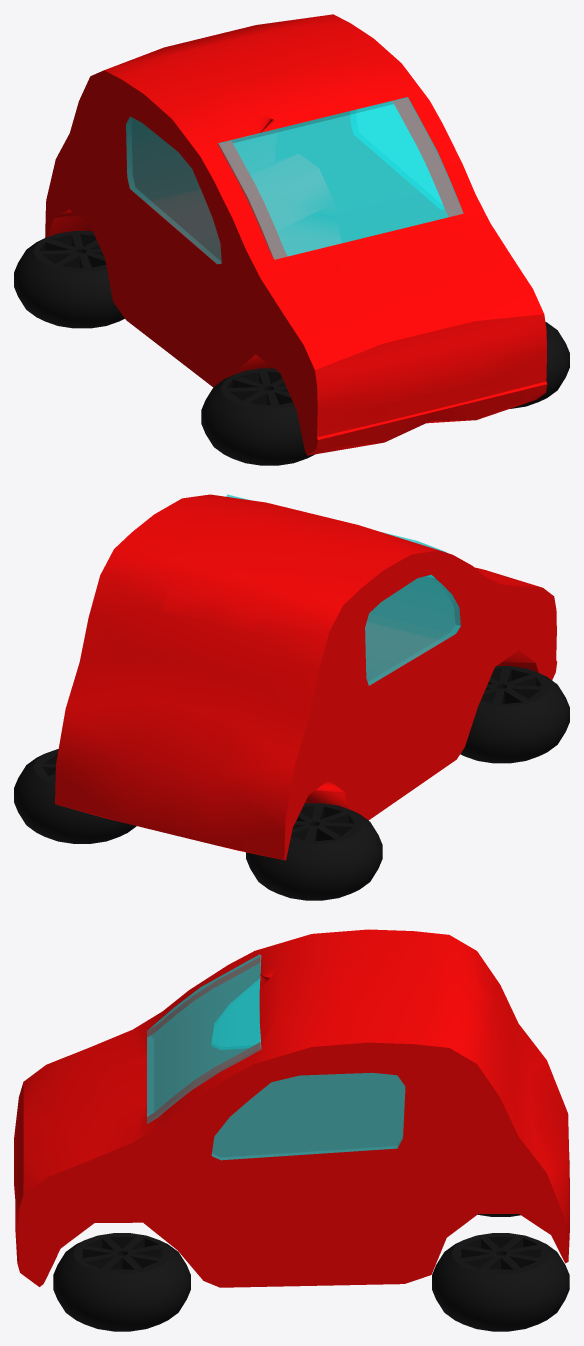
Rendered from car_body.FBX.
The picture shows the model from 3 angles, top to bottom: view 1: azimuth 30°, elevation 25°; view 2: azimuth 150°, elevation 25°; view 3: azimuth 270°, elevation 25°; orthographic projection.
Visible parts, largest first — view 1: body, windowfront, wheel003, wheel001, windowright, windowleft, wheel; view 2: body, wheel003, wheel001, windowright, wheel002; view 3: body, windowleft, windowfront, wheel, wheel002, windowright.
Boxes of the visible parts, box(x1,y1,x2,y2) form: body: box(45, 14, 547, 455); windowfront: box(218, 97, 463, 259); wheel003: box(14, 231, 124, 328); wheel001: box(201, 368, 314, 465); windowright: box(126, 116, 221, 264); windowleft: box(351, 102, 443, 208); wheel: box(510, 322, 569, 408); body: box(55, 494, 557, 860); wheel003: box(246, 803, 382, 900); wheel001: box(460, 666, 569, 763); windowright: box(365, 574, 460, 685); wheel002: box(14, 749, 136, 843); body: box(14, 929, 569, 1287); windowleft: box(211, 1072, 405, 1160); windowfront: box(147, 954, 261, 1123); wheel: box(53, 1233, 190, 1331); wheel002: box(432, 1233, 569, 1331); windowright: box(212, 979, 260, 1049).
Size of the model in its own units: 1.52 by 1.1 by 2.08.
